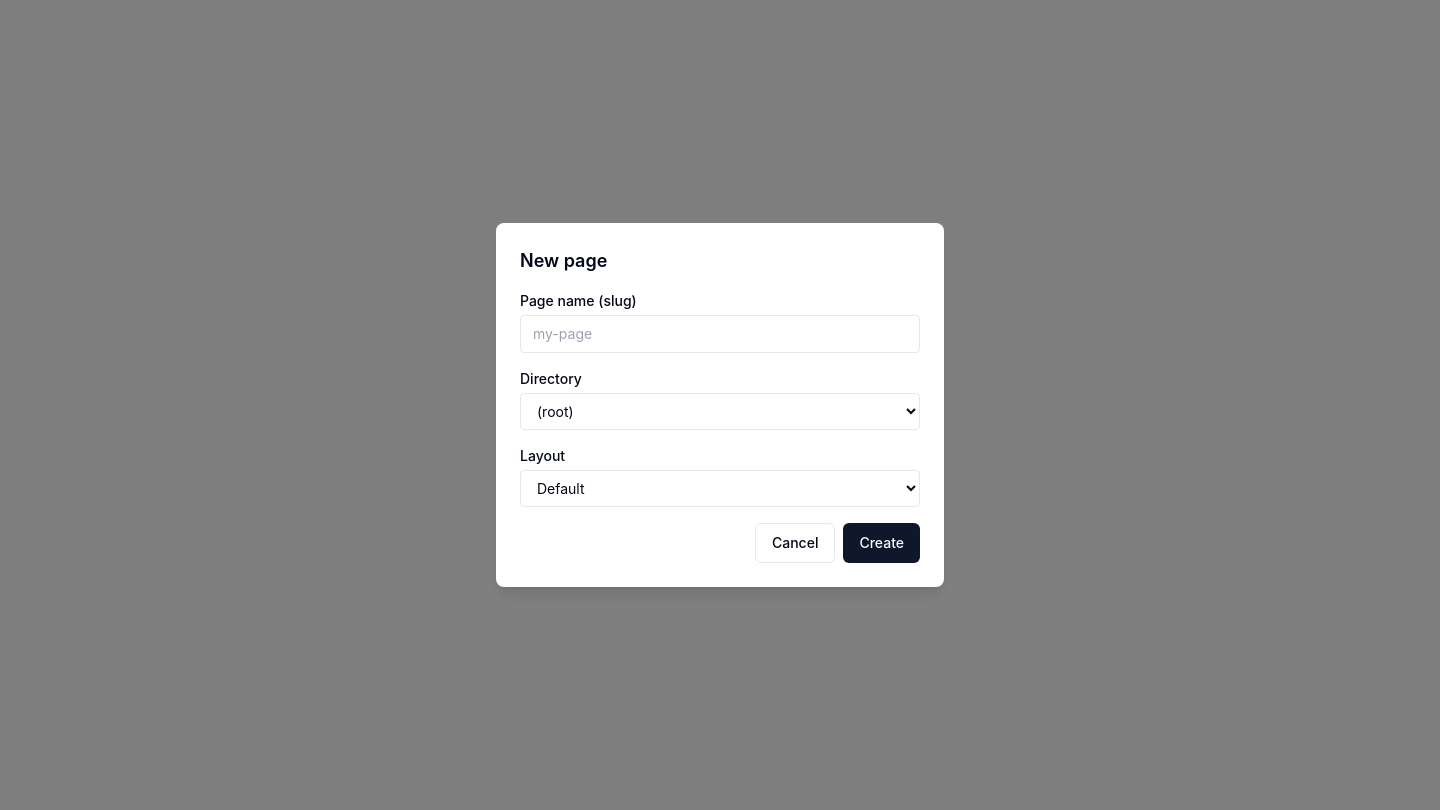
Test: PageCreationDialog › shows server error when creation fails
Type "test" into the field labelled "Page name (slug)" at {"x": 720, "y": 334}, box [520,315,920,353]
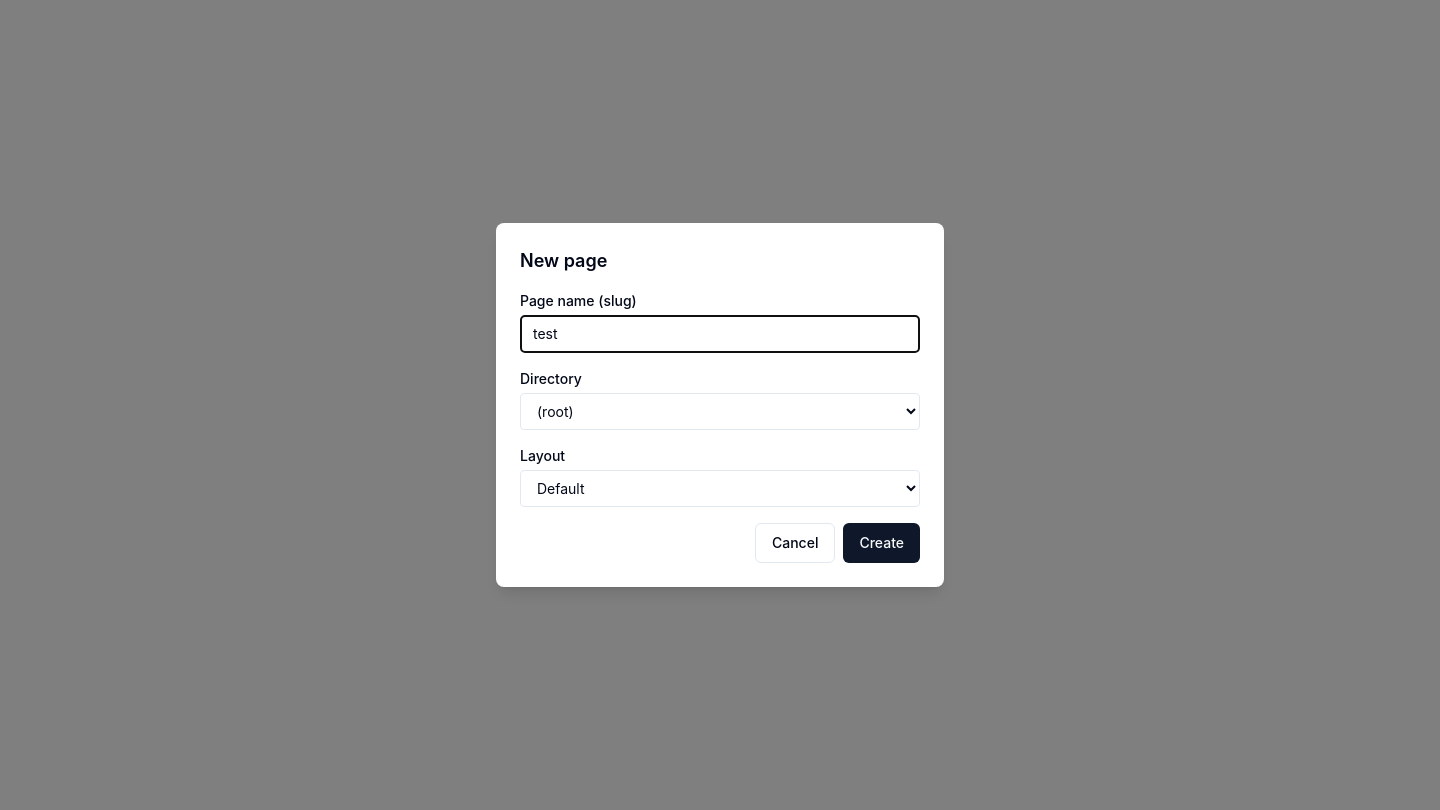
Click the button "Create" at {"x": 882, "y": 543}, box [843,523,920,563]
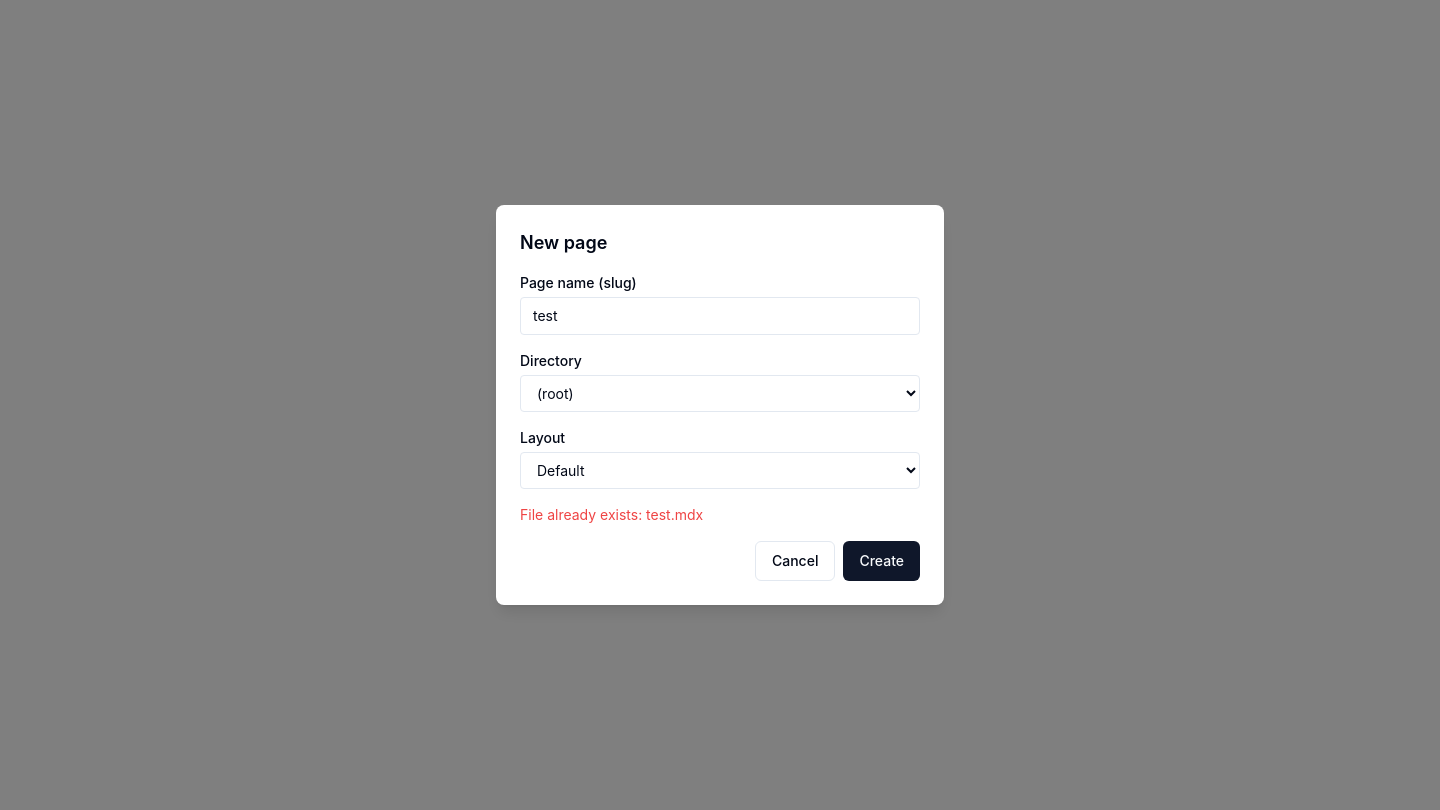
Now the text "File already exists: test.mdx" is shown, box [520,506,703,523]
